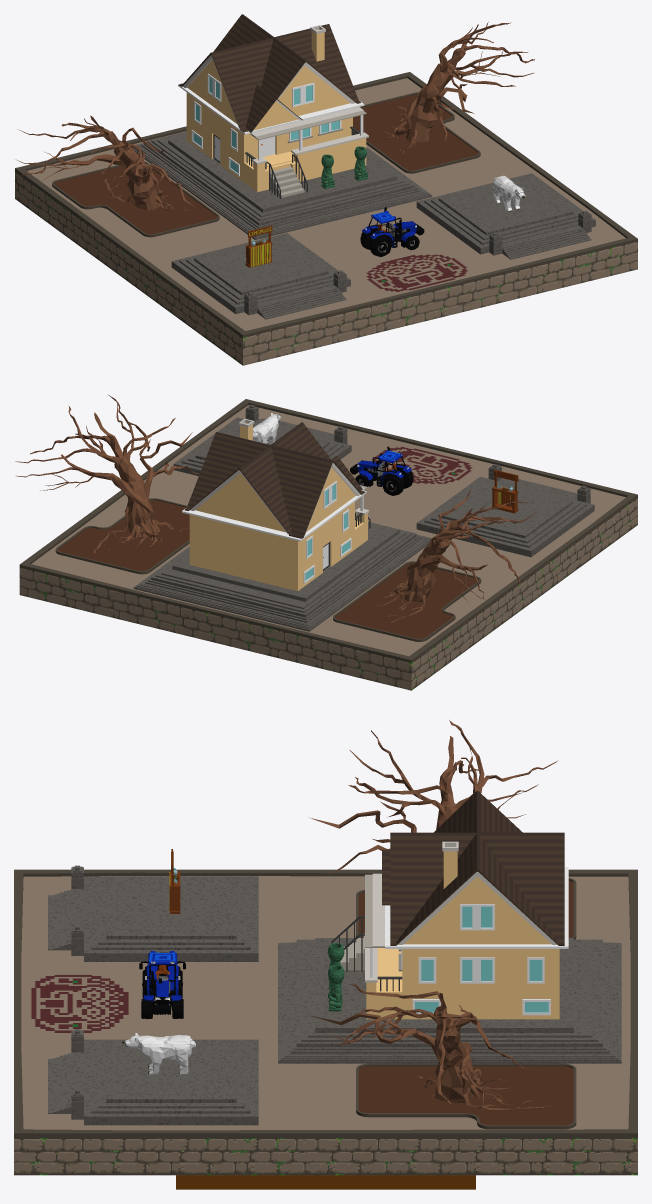
3 renders of one model, top to bottom at view 1: azimuth 30°, elevation 25°; view 2: azimuth 150°, elevation 25°; view 3: azimuth 270°, elevation 25°, orthographic. The views are drawn at different scales.
Parts seen in each view (by area): view 1: Cube.011, Cube.235, VEHICLES_TRACTOR, OBJRANDOM_LEMONADE_STAND, ANIMAL_OSO_POLAR; view 2: Cube.011, Cube.235, VEHICLES_TRACTOR, OBJRANDOM_LEMONADE_STAND, ANIMAL_OSO_POLAR; view 3: Cube.011, Cube.235, UNDERGROUND_ART_PIECE_VAN_GOGH, VEHICLES_TRACTOR, ANIMAL_OSO_POLAR.
Part boxes in pixels (x1,y1,x2,y2): Cube.011: (15,22,637,365); Cube.235: (178,14,368,198); VEHICLES_TRACTOR: (360,207,424,257); OBJRANDOM_LEMONADE_STAND: (245,225,272,267); ANIMAL_OSO_POLAR: (493,175,525,211); Cube.011: (15,395,637,690); Cube.235: (182,418,370,591); VEHICLES_TRACTOR: (350,446,413,495); OBJRANDOM_LEMONADE_STAND: (492,469,518,513); ANIMAL_OSO_POLAR: (253,413,280,444); Cube.011: (14,720,637,1175); Cube.235: (331,791,568,1019); UNDERGROUND_ART_PIECE_VAN_GOGH: (176,1175,475,1189); VEHICLES_TRACTOR: (139,951,185,1019); ANIMAL_OSO_POLAR: (121,1033,195,1074).
Size of the model in its own units: 5099 by 1785 by 4000.
Materials: 37 (6 with a texture image).
